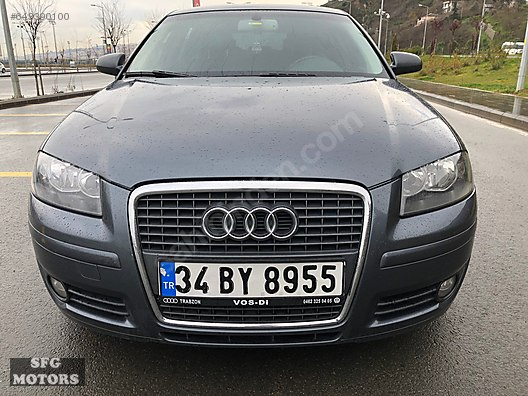audi: (197, 207, 303, 245)
